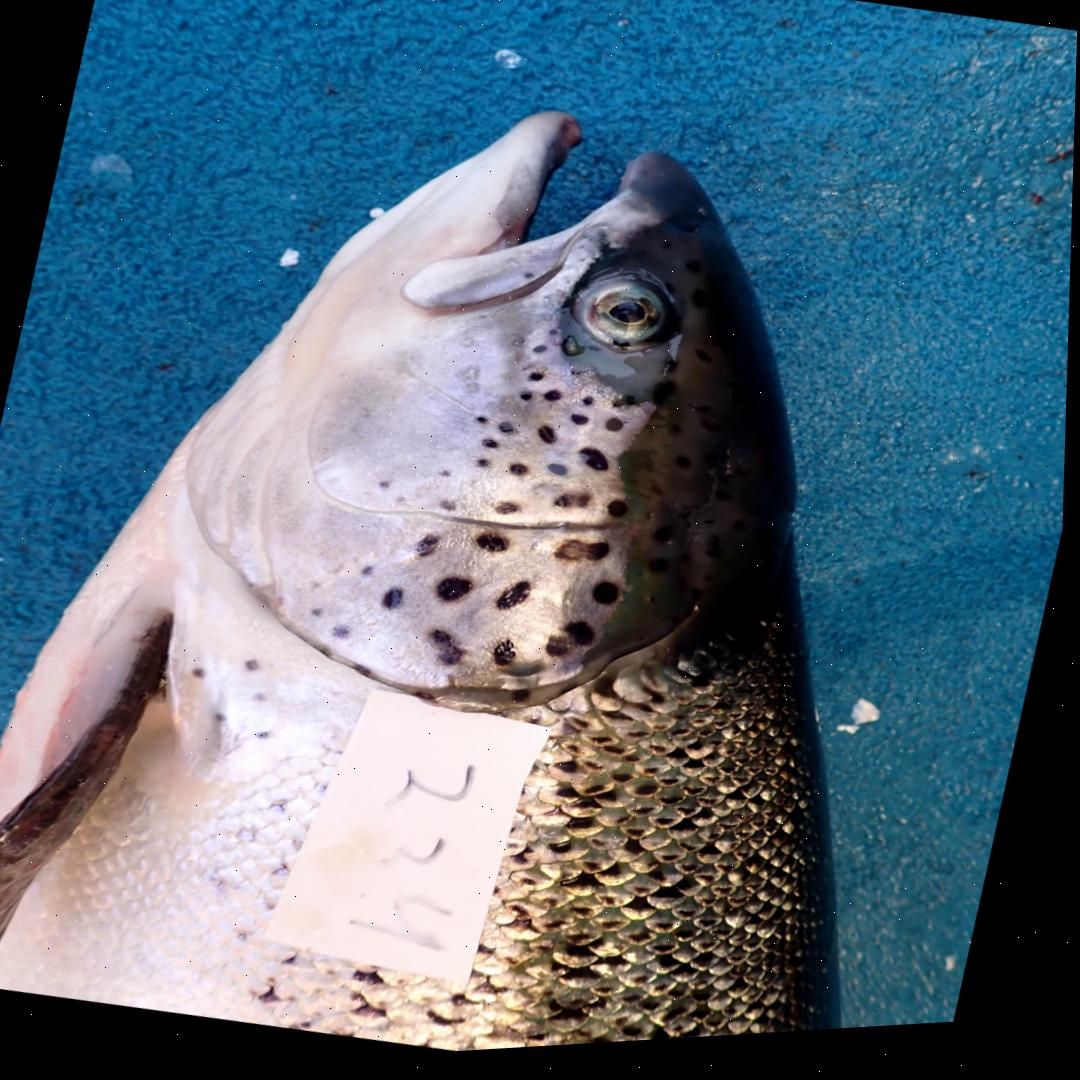spot: (433, 634, 471, 672), (557, 546, 613, 570), (498, 588, 534, 616), (439, 583, 476, 608), (569, 629, 599, 654), (582, 455, 611, 479), (595, 590, 623, 612), (496, 647, 519, 673), (418, 540, 444, 563), (480, 540, 511, 559), (556, 500, 595, 515), (548, 643, 574, 665), (384, 593, 406, 615), (614, 401, 641, 417), (609, 507, 632, 525), (540, 433, 559, 452), (515, 695, 535, 712), (498, 508, 522, 521), (545, 396, 566, 409), (335, 629, 353, 644), (550, 470, 569, 484), (607, 426, 625, 440), (362, 570, 378, 585), (512, 470, 530, 482), (442, 505, 460, 517), (499, 429, 516, 441), (484, 444, 501, 456), (573, 422, 591, 433), (530, 378, 547, 389), (314, 612, 329, 624), (479, 465, 494, 477), (584, 403, 598, 414), (535, 351, 550, 361), (478, 421, 492, 431), (522, 398, 535, 407), (382, 486, 393, 494), (441, 476, 453, 482), (550, 336, 560, 341)
